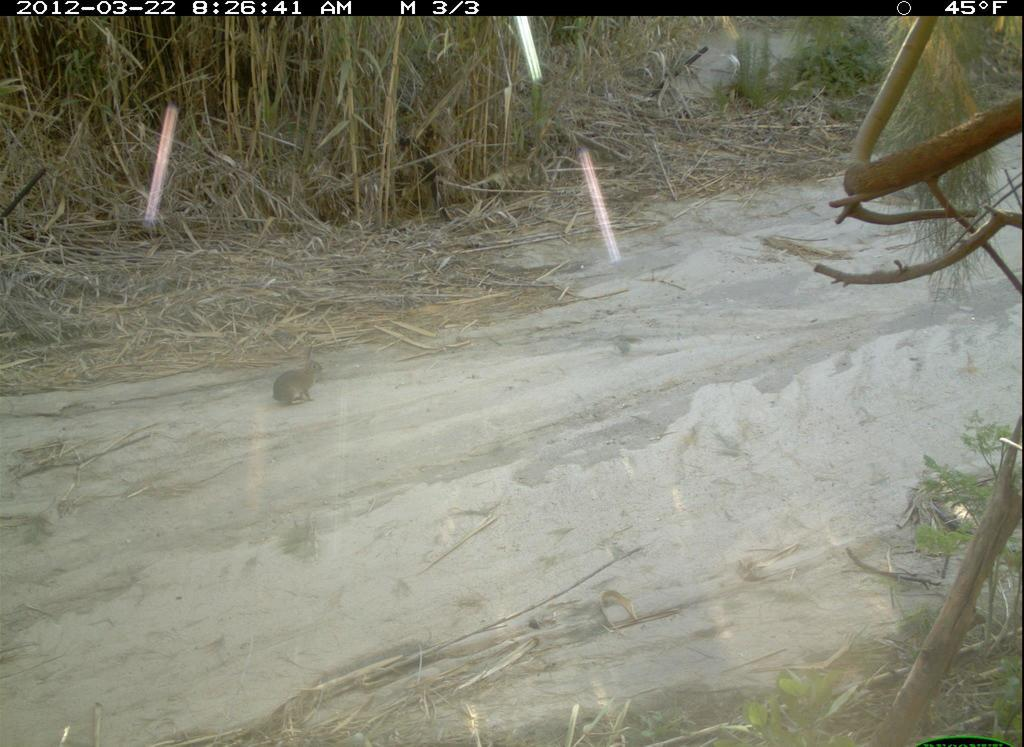rabbit: (262, 351, 327, 413)
